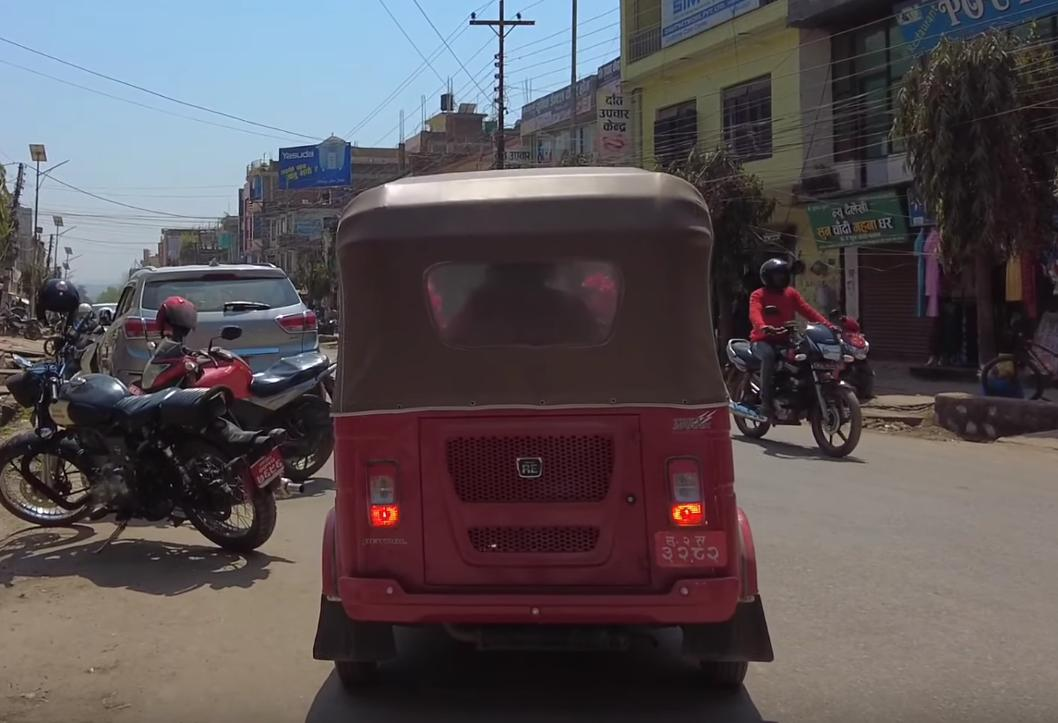auto_rickshaw: (320, 164, 780, 697)
bike: (0, 324, 294, 568), (721, 320, 868, 462)
